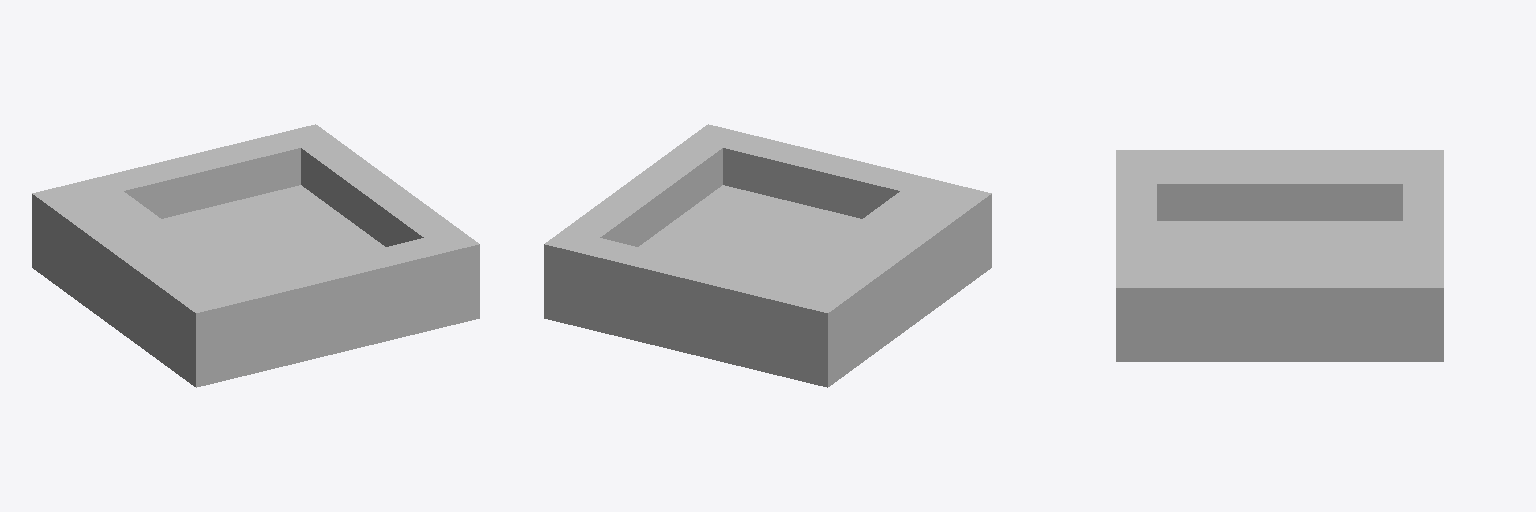
Rendered from Grass 6.obj.
3 renders of one model, left to right at view 1: azimuth 30°, elevation 25°; view 2: azimuth 150°, elevation 25°; view 3: azimuth 270°, elevation 25°, orthographic.
Visible parts, largest first — view 1: object 1; view 2: object 1; view 3: object 1.
Part boxes in pixels (left/top/right/bottom): object 1: left=32, top=124, right=479, bottom=387; object 1: left=544, top=124, right=991, bottom=387; object 1: left=1116, top=150, right=1443, bottom=361.
Bounding box in the file's own units: 0.8 × 0.2 × 0.8.